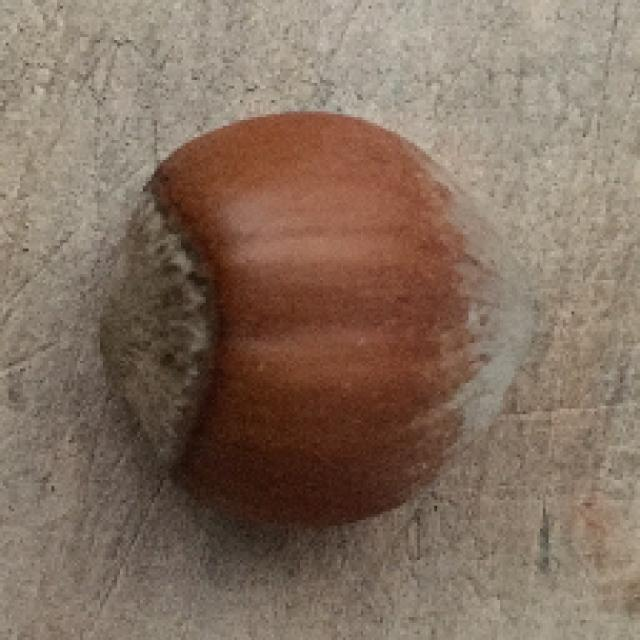qualityHazelnut: (102, 111, 522, 528)
